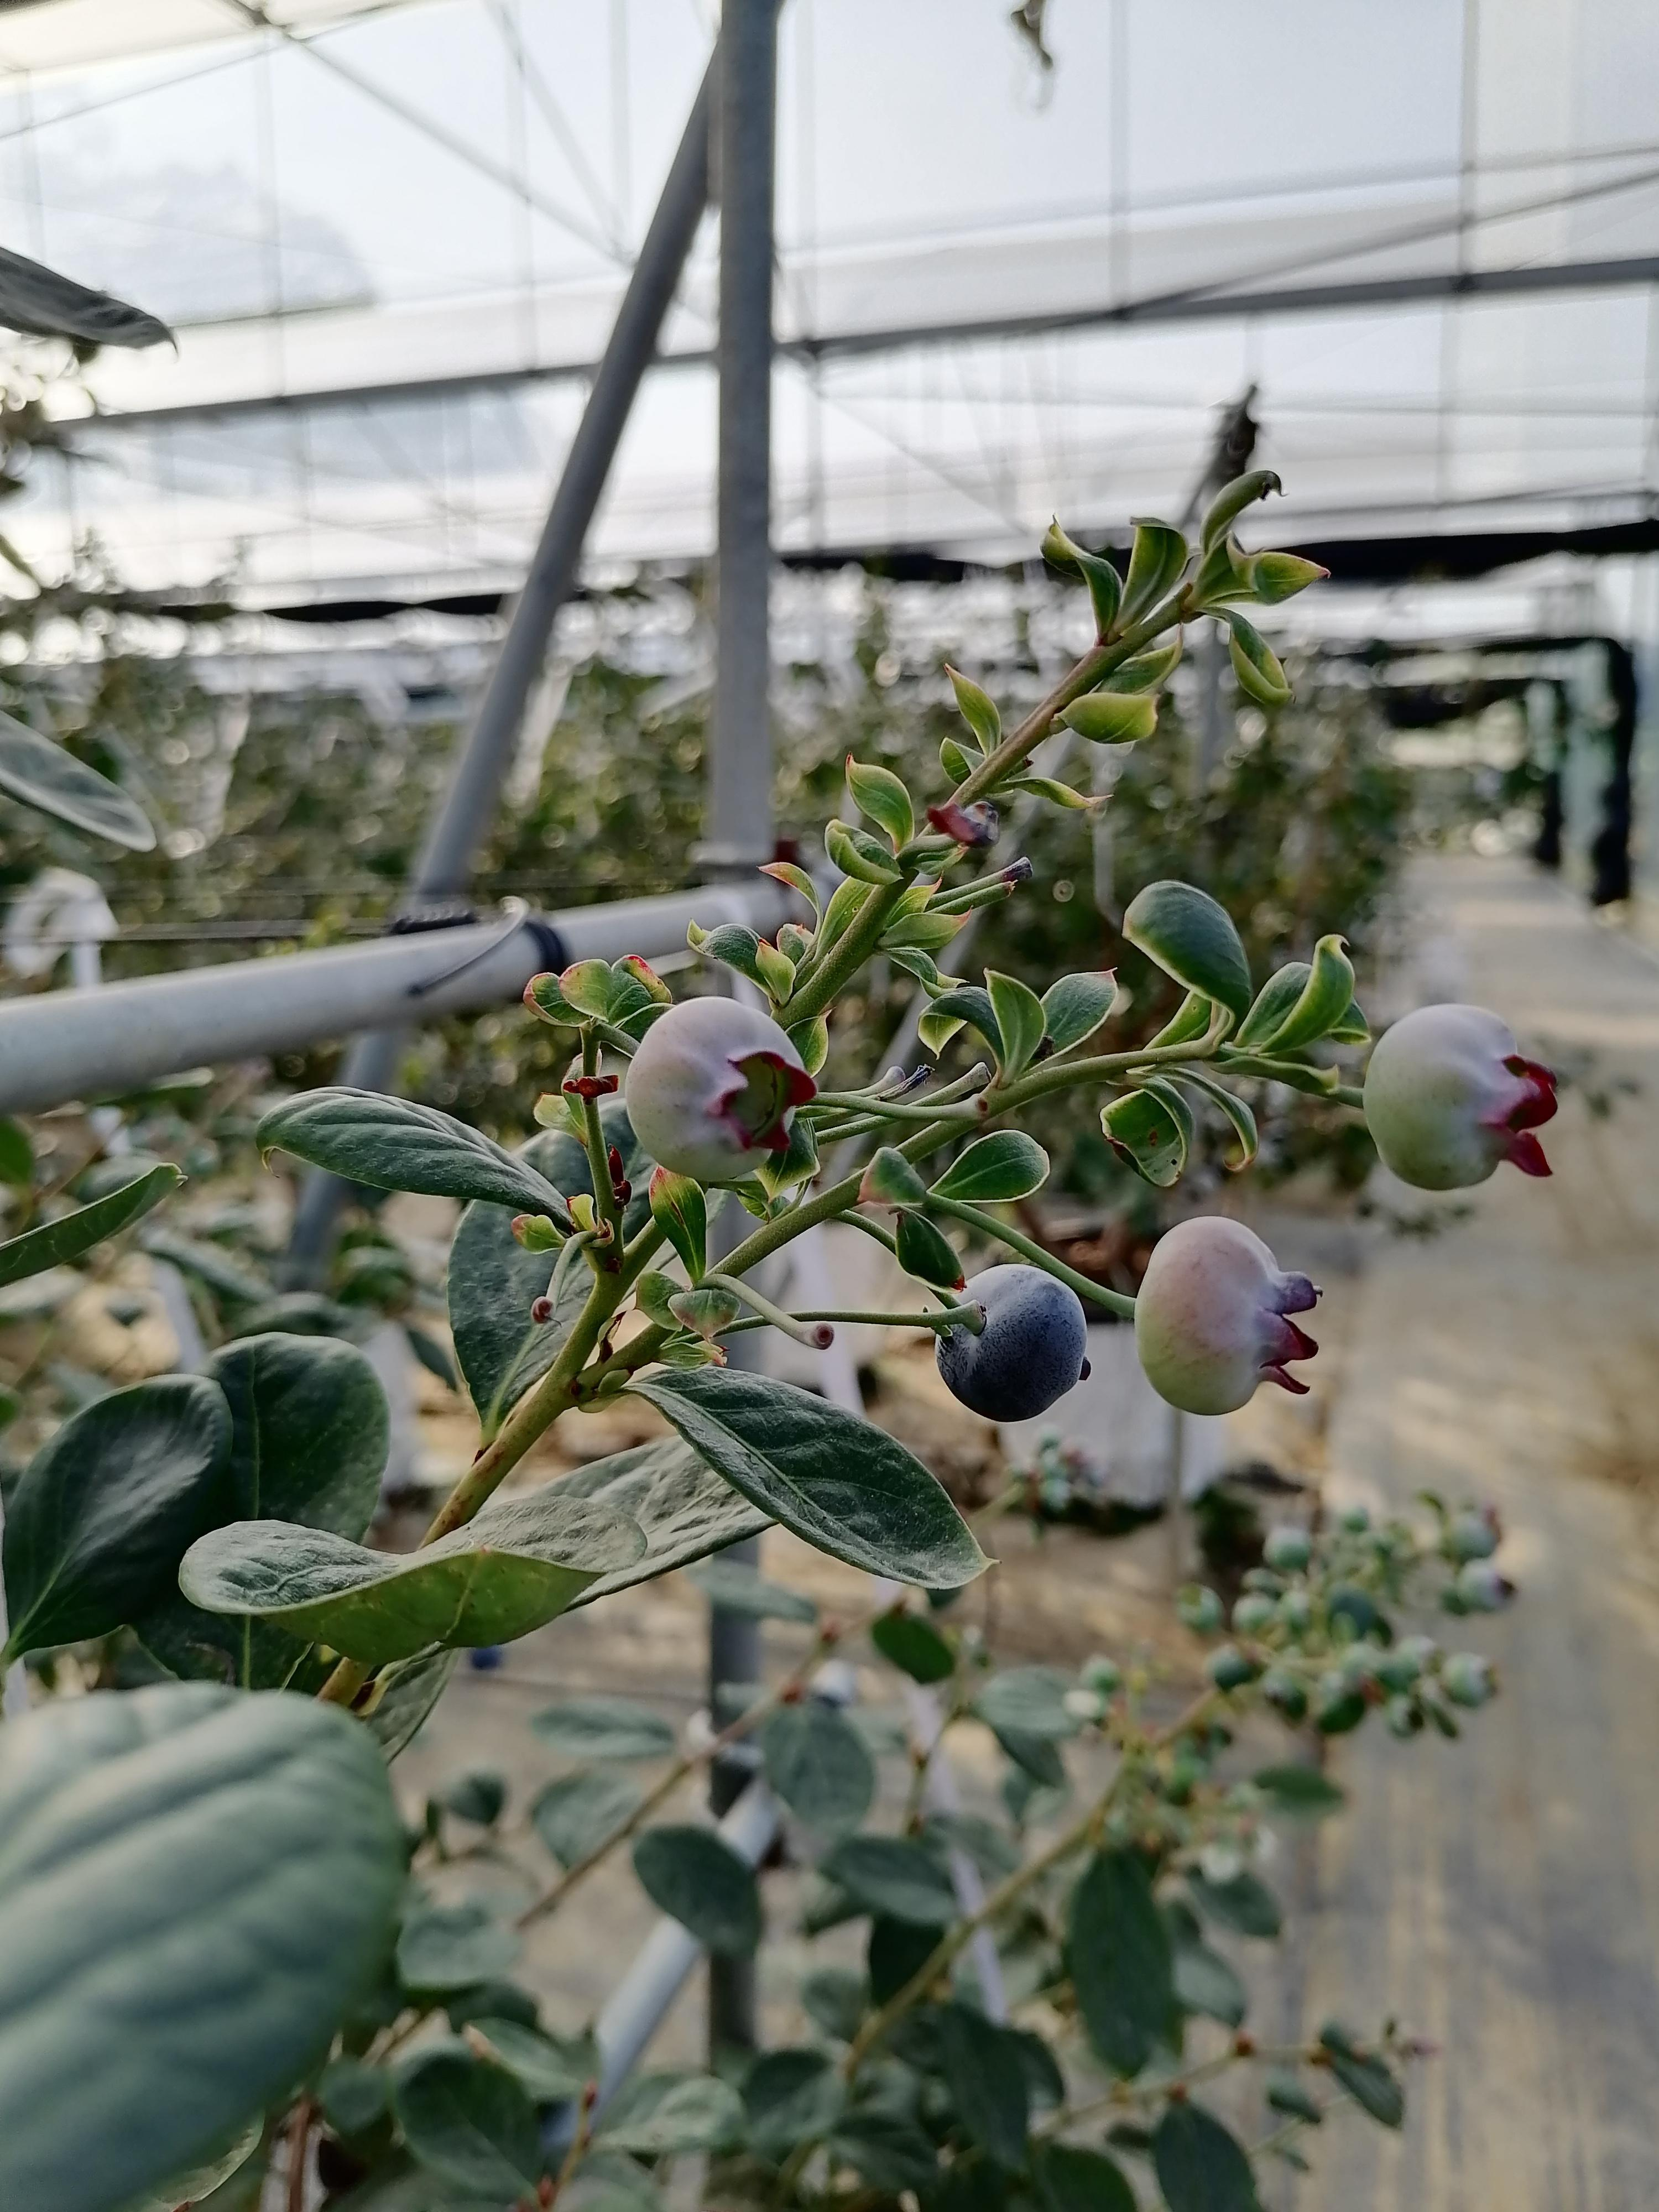ripe-blueberries: (934, 1263, 1093, 1423)
